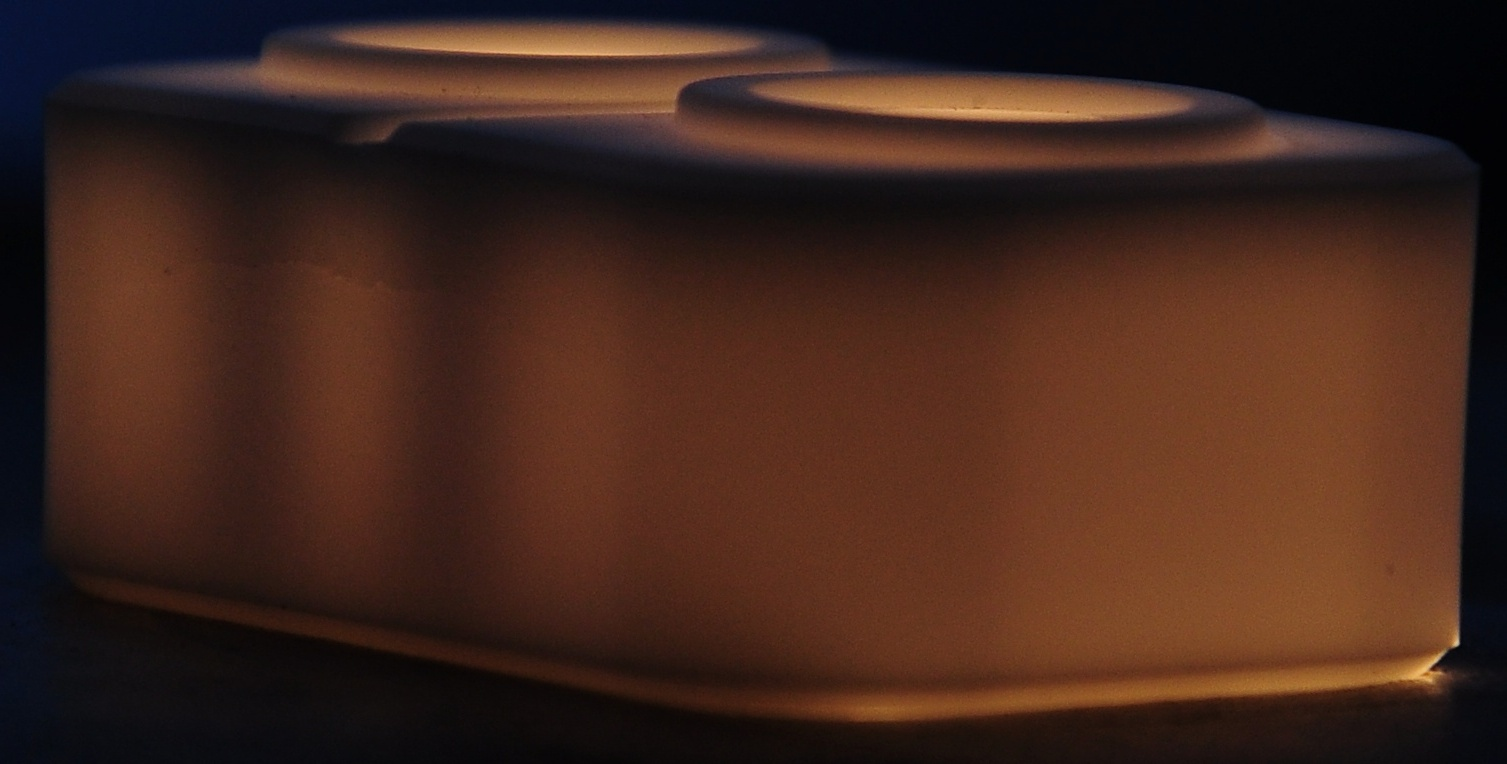flaw: (104, 235, 542, 333)
